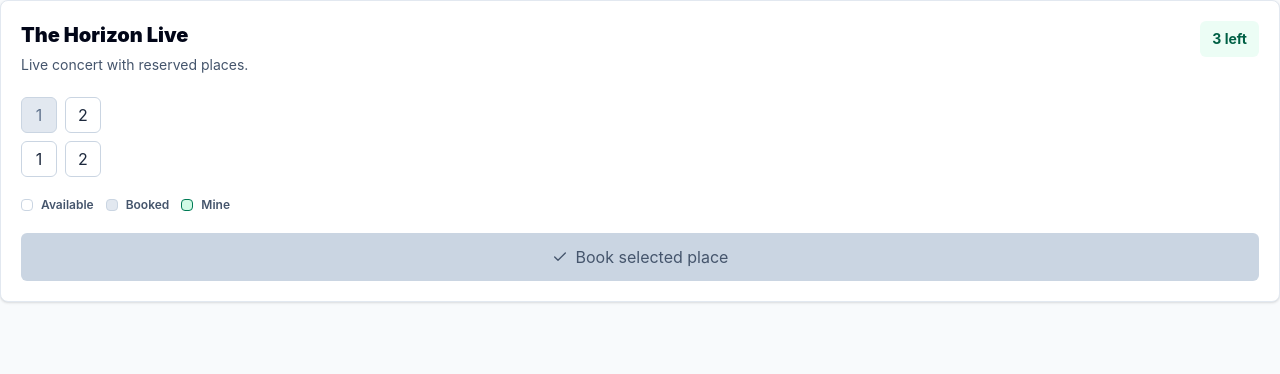
it: EventDetailsPanel › books a selected place for an authenticated user and shows a confirmation
The width and height of the screenshot is (1280, 374).
Click the button named "Row 1, place 2" at (83, 115), box [65,97,101,133]
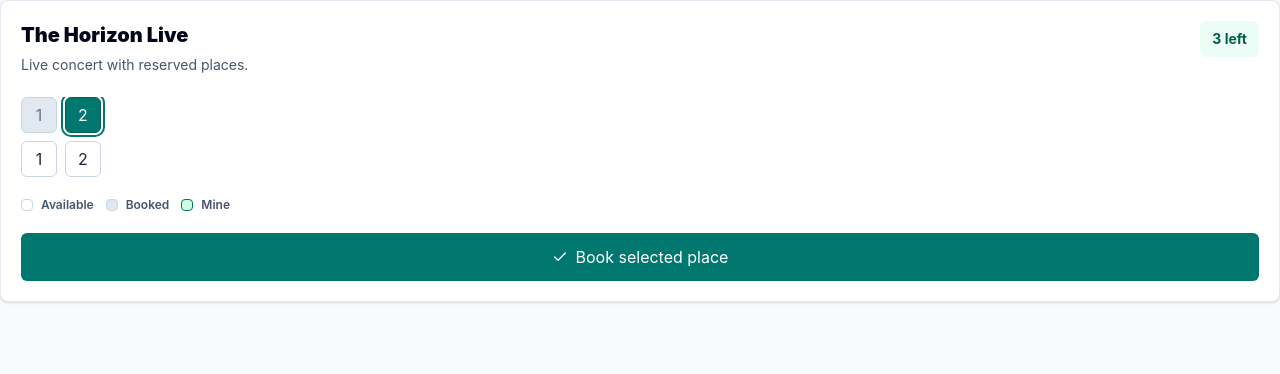
Click the button "Book selected place" at (640, 257), box [21,233,1259,281]
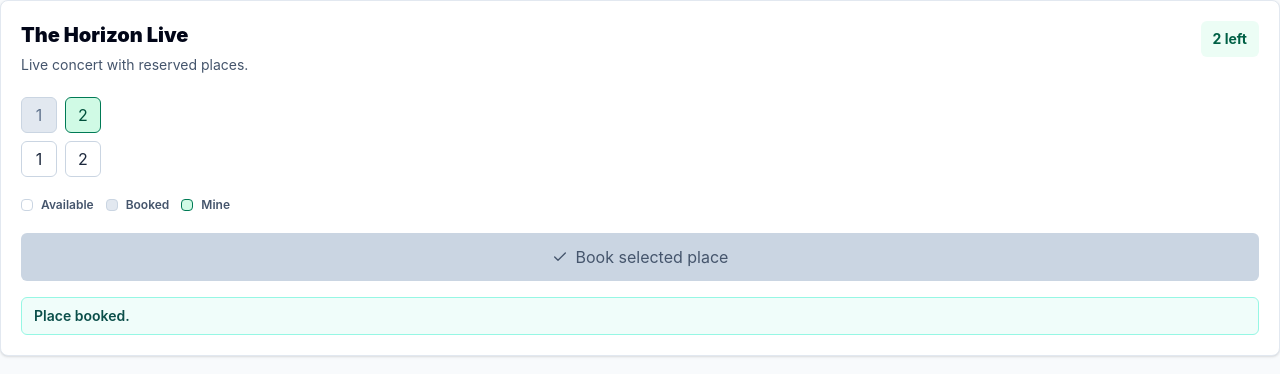
Now the text "Place booked." is shown, box [21,297,1259,335]
Now the button named "Row 1, place 2" is disabled, box [65,97,101,133]
